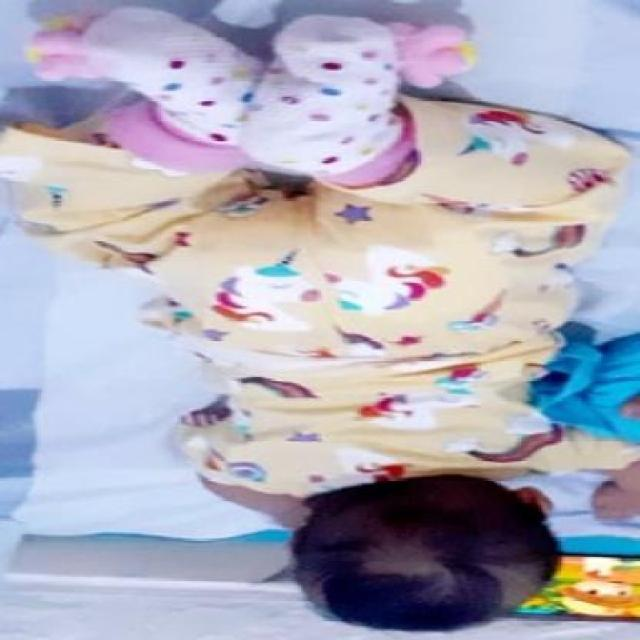baby: (8, 7, 640, 636)
